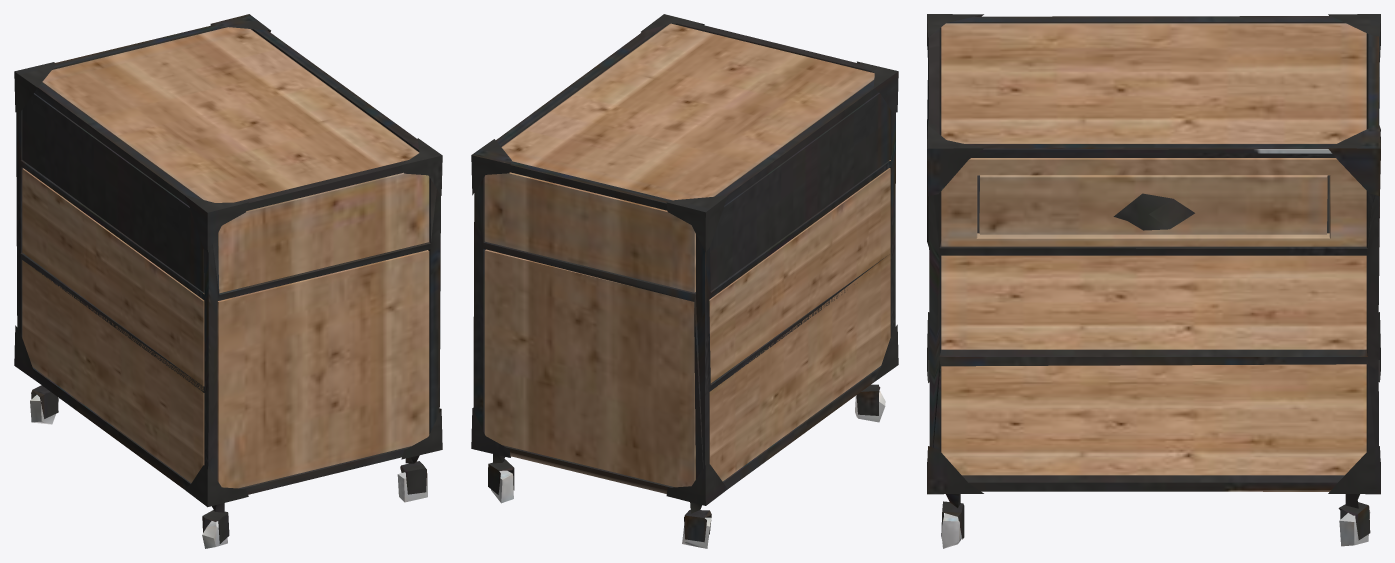
File: Cupboard0013.obj
3 views of the same model, side by side, from view 1: azimuth 30°, elevation 25°; view 2: azimuth 150°, elevation 25°; view 3: azimuth 270°, elevation 25° (orthographic). The views are drawn at different scales.
Bounding box in the file's own units: 0.381 × 0.512 × 0.514.
Materials: 1 (1 with a texture image).
